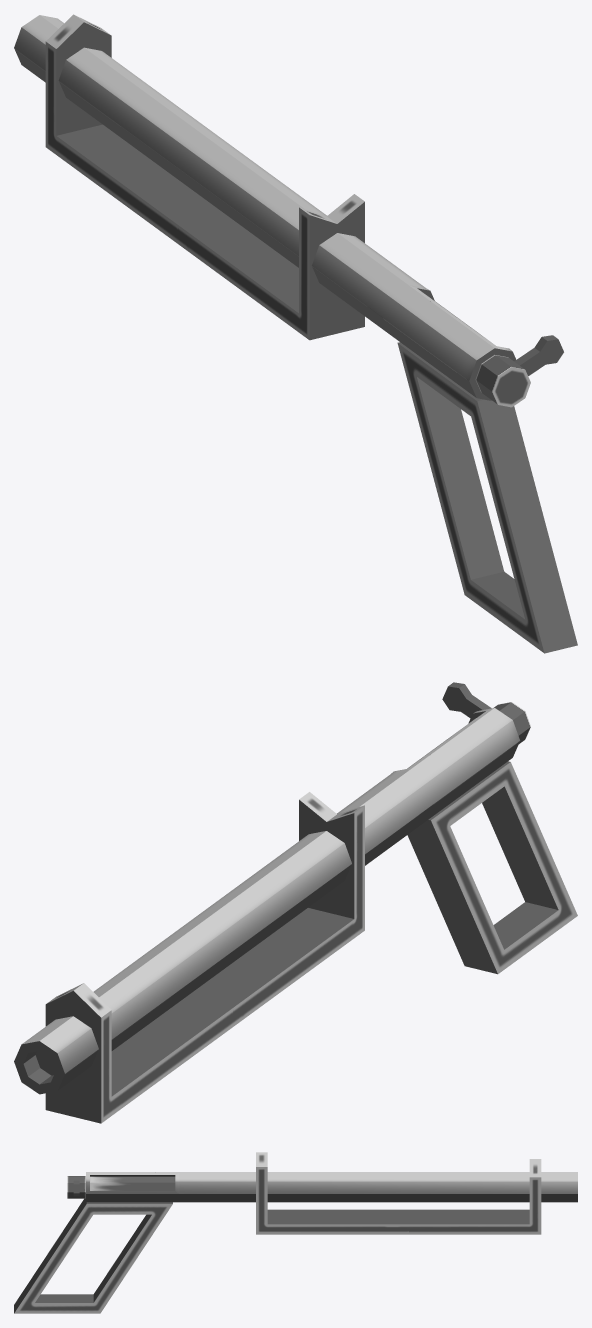
The model's file is EnemyUnitWeapon.fbx.
The picture shows the model from 3 angles, top to bottom: view 1: azimuth 30°, elevation 25°; view 2: azimuth 150°, elevation 25°; view 3: azimuth 270°, elevation 25°; orthographic projection. The views are drawn at different scales.
Visible parts, largest first — view 1: SecondAtempt; view 2: SecondAtempt; view 3: SecondAtempt.
Boxes of the visible parts, box(x1,y1,x2,y2) form: SecondAtempt: box(14, 14, 577, 653); SecondAtempt: box(14, 682, 577, 1123); SecondAtempt: box(14, 1152, 577, 1313).
Size of the model in its own units: 0.0857 by 0.2653 by 0.9024.
1 material, 1 textured.
